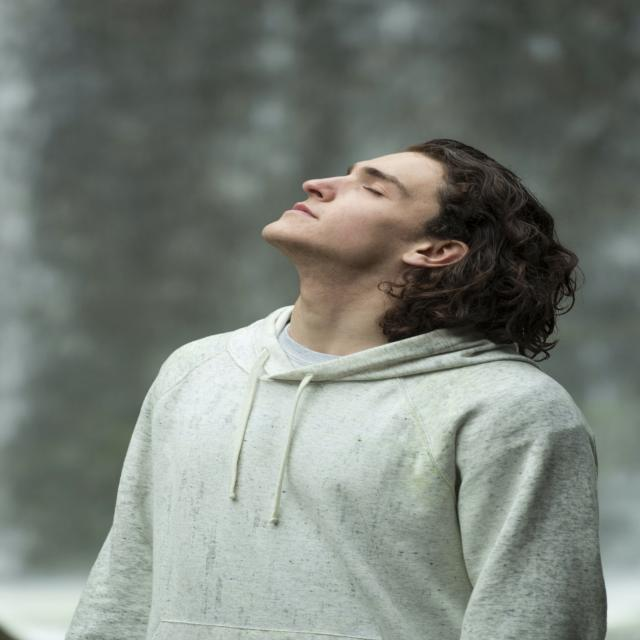adult: (84, 145, 584, 640)
